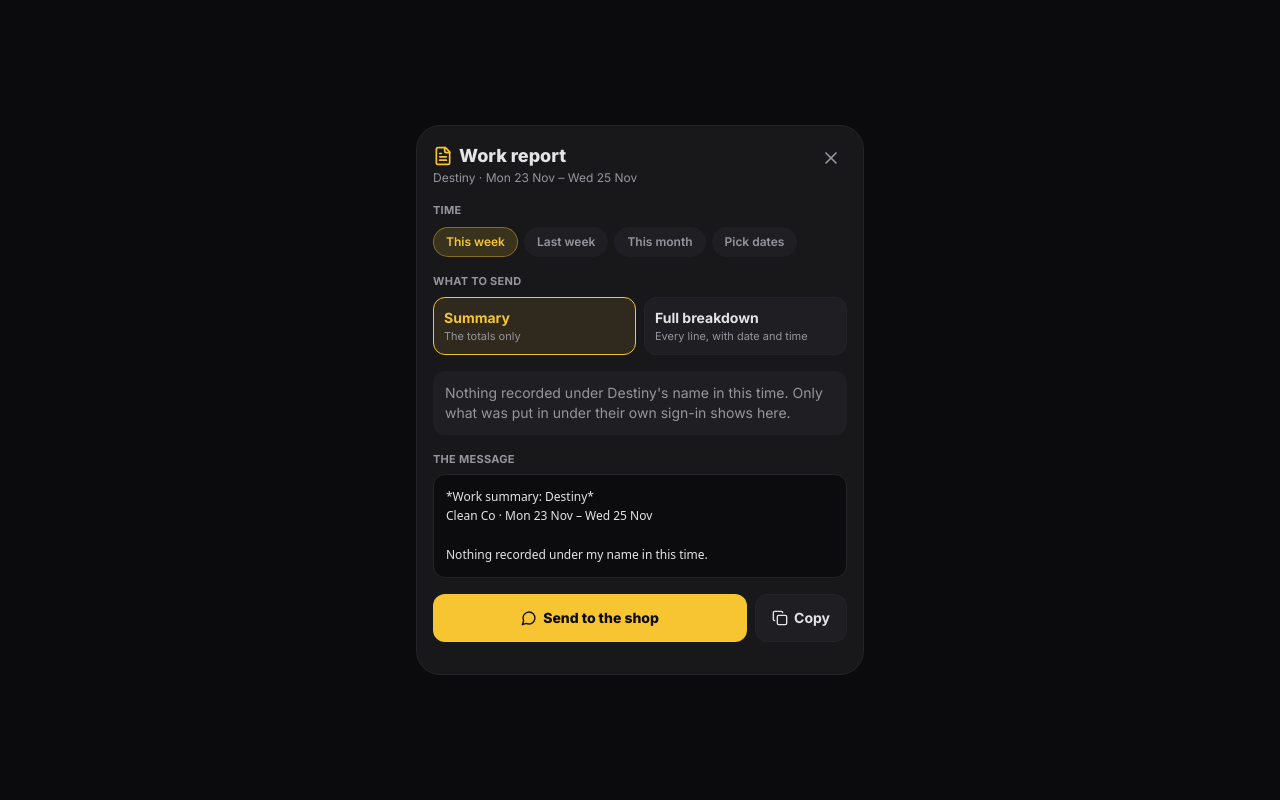
Test case: on screen › picks the time and summary or full, and shows the message that will be sent
Click the button "Pick dates" at point(754, 242), box [712,227,797,257]
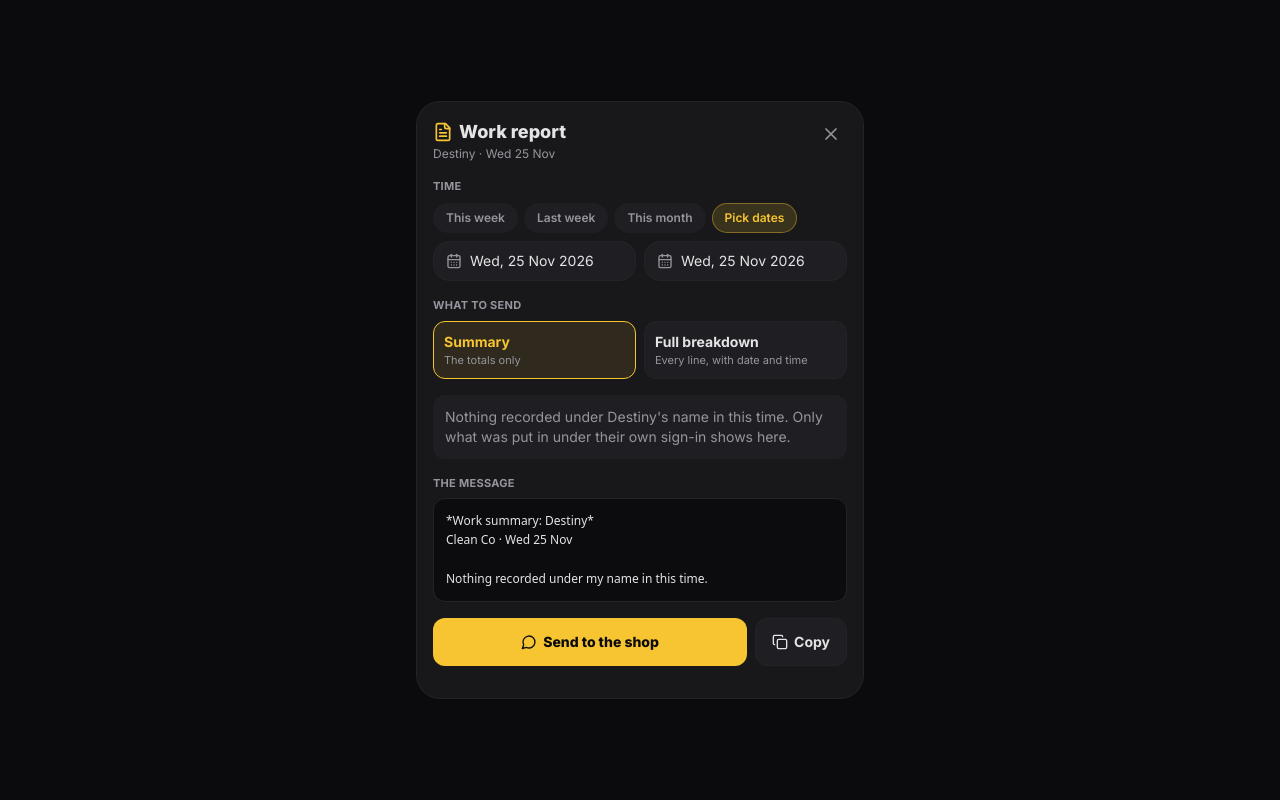
Now the element showing "Wed, 25 Nov 2026 Wed, 25 Nov 2026" is shown, box [433,241,847,281]
Click the button "Full breakdown Every line, with date and time" at point(746, 350), box [644,321,847,379]
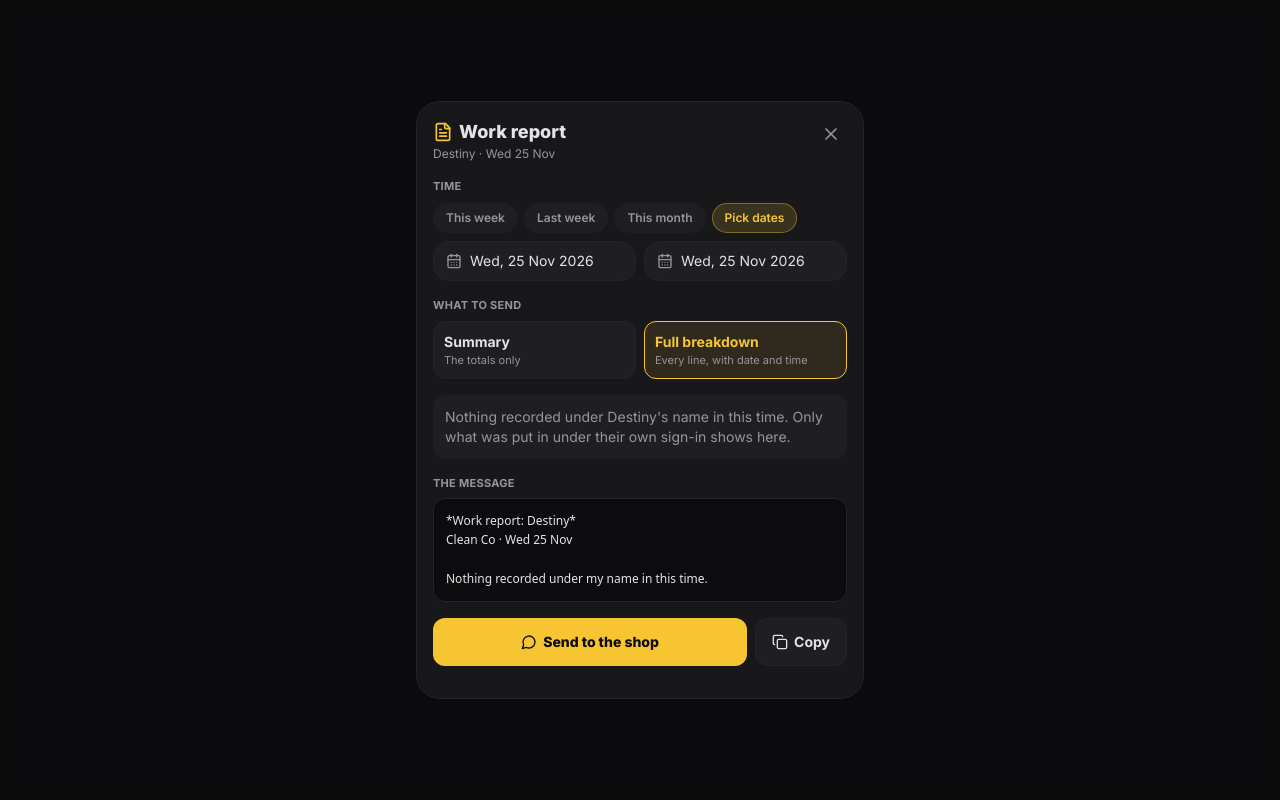
Now the text "*Work report: Destiny*" is shown, box [446,512,708,587]
Click the button "Summary The totals only" at point(534, 350), box [433,321,636,379]
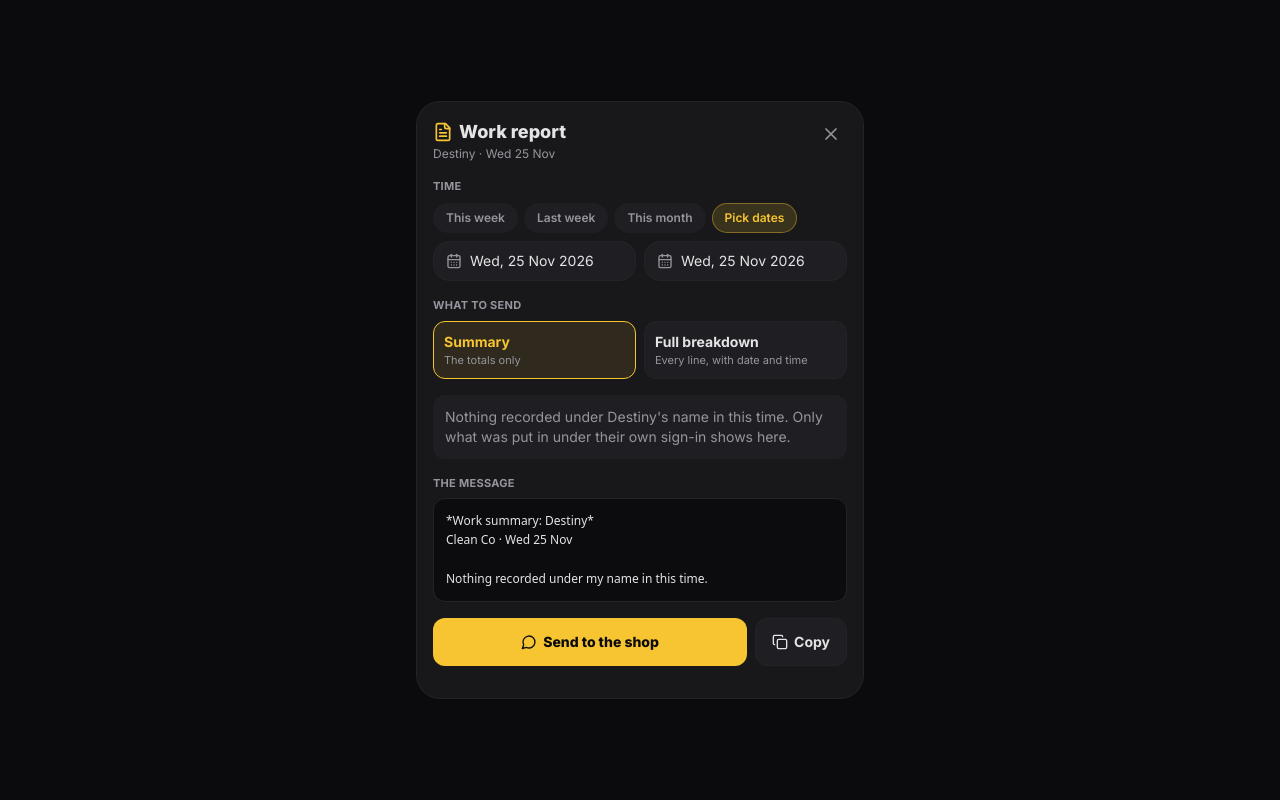
Expected: the button "Send to the shop" is shown, [433,618,747,666]
Now the text "*Work summary: Destiny*" is shown, box [446,512,708,587]
